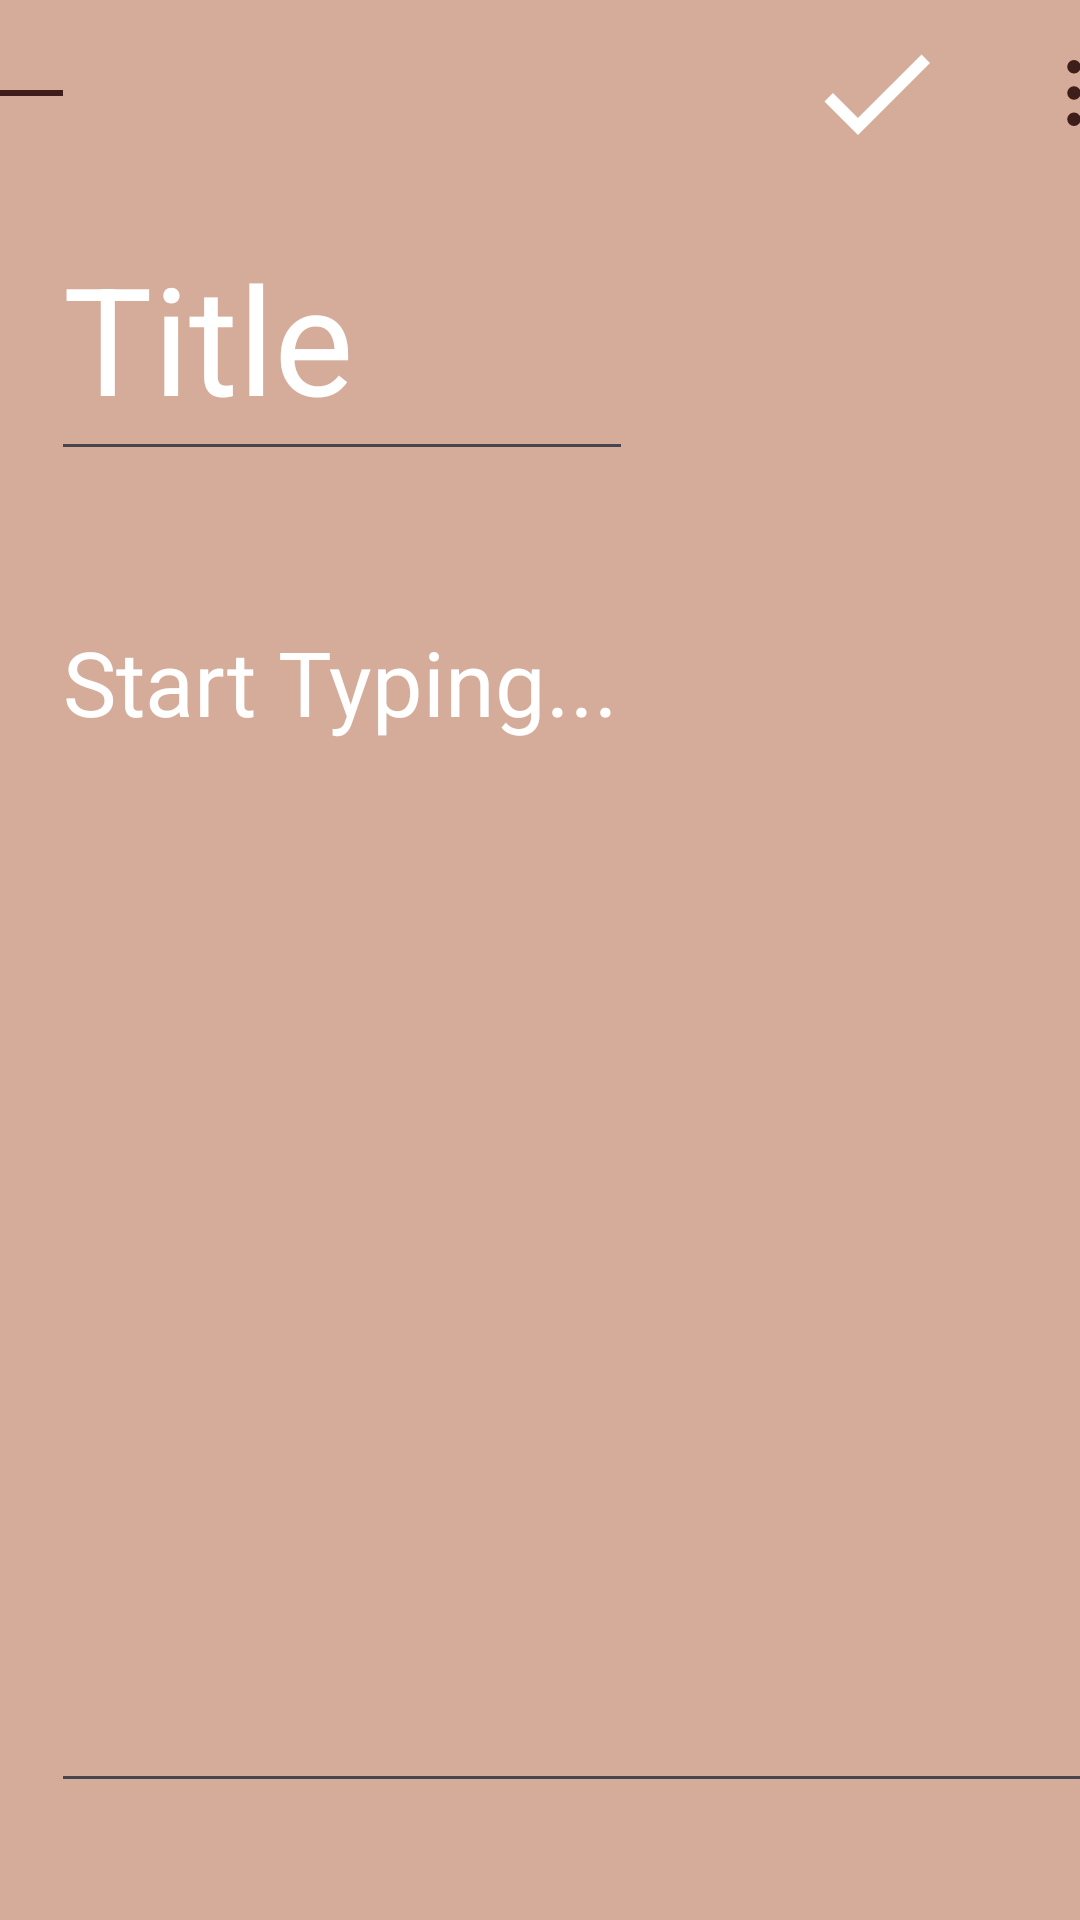

Named icons in this screenshot (1080px×1920px) and their centers, [x,y]:
done: [877,94]
